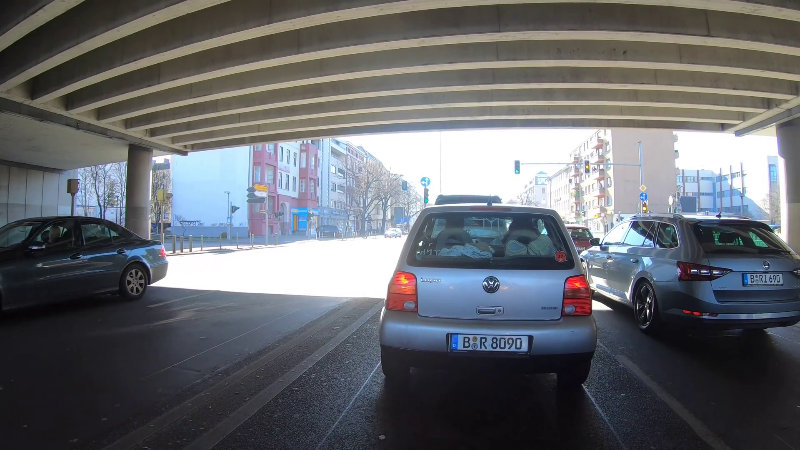Plate: (446, 332, 531, 356), (737, 271, 787, 286)
